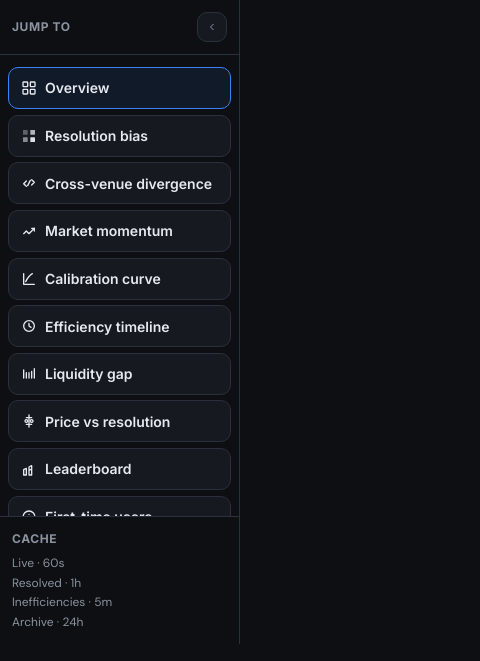
Sidebar › shows description tooltip on hover and hides on leave
Hover over the button "Resolution bias" at x=120, y=136, box [8,115,231,157]
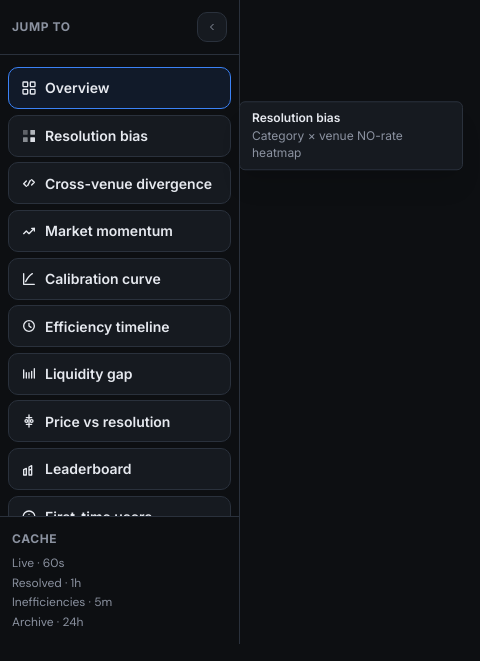
Check: the tooltip shows "Category × venue NO-rate heatmap", box [252,128,403,160]
Move the pointer off the button "Resolution bias", box [8,115,231,157]
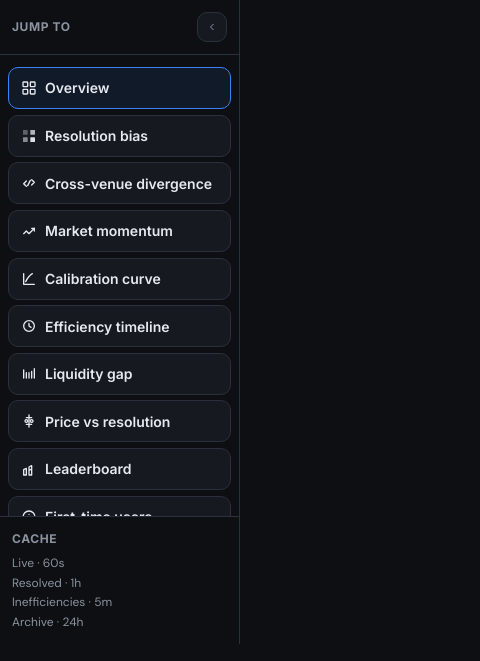
Check: the tooltip "Resolution bias Category × venue NO-rate heatmap" is gone
